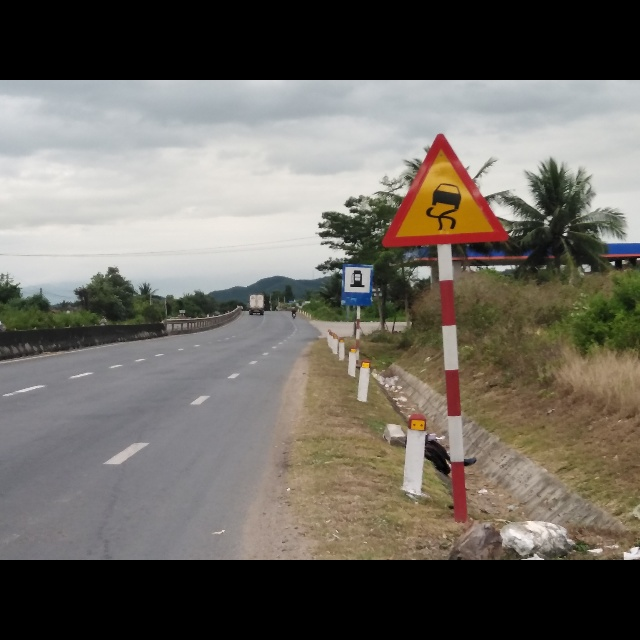Đường trơn trượt: (378, 130, 506, 248)
